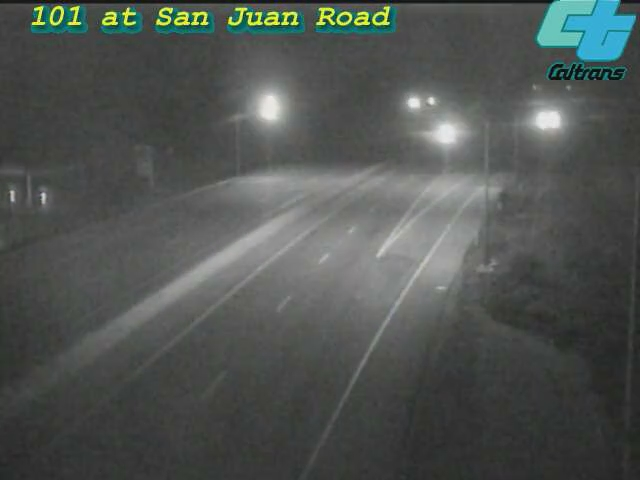vehicle: (420, 111, 470, 161), (515, 96, 565, 146), (528, 95, 578, 145)
